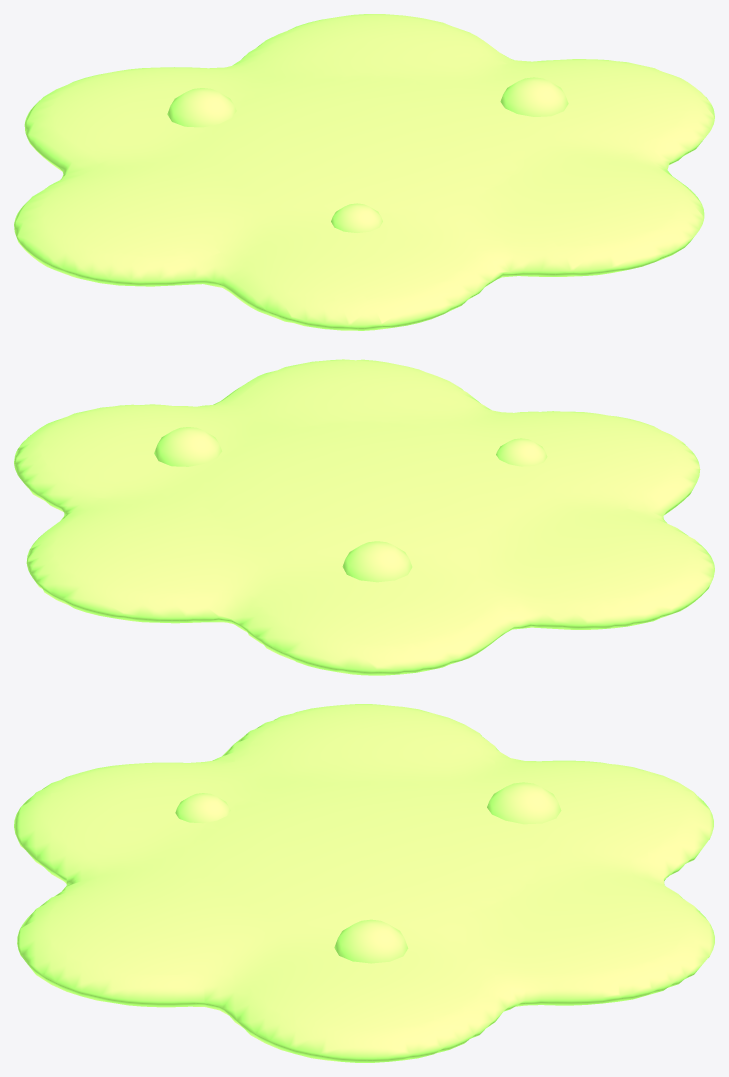
The model's file is G07_Slime_Puddle.glb.
The picture shows the model from 3 angles, top to bottom: view 1: azimuth 30°, elevation 25°; view 2: azimuth 150°, elevation 25°; view 3: azimuth 270°, elevation 25°; orthographic projection. The views are drawn at different scales.
Parts seen in each view (by area): view 1: G07_Slime_Puddle_Mesh; view 2: G07_Slime_Puddle_Mesh; view 3: G07_Slime_Puddle_Mesh.
Part boxes in pixels (x1=…): G07_Slime_Puddle_Mesh: x1=14, y1=14, x2=714, y2=330; G07_Slime_Puddle_Mesh: x1=14, y1=359, x2=714, y2=675; G07_Slime_Puddle_Mesh: x1=14, y1=704, x2=714, y2=1062.
Size of the model in its own units: 2.7 by 0.3189 by 2.29.
